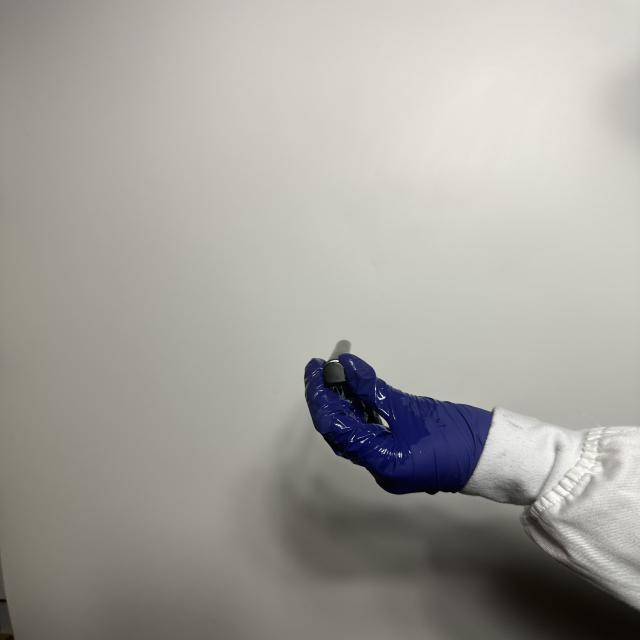gloves_contaminated: (305, 354, 493, 494)
